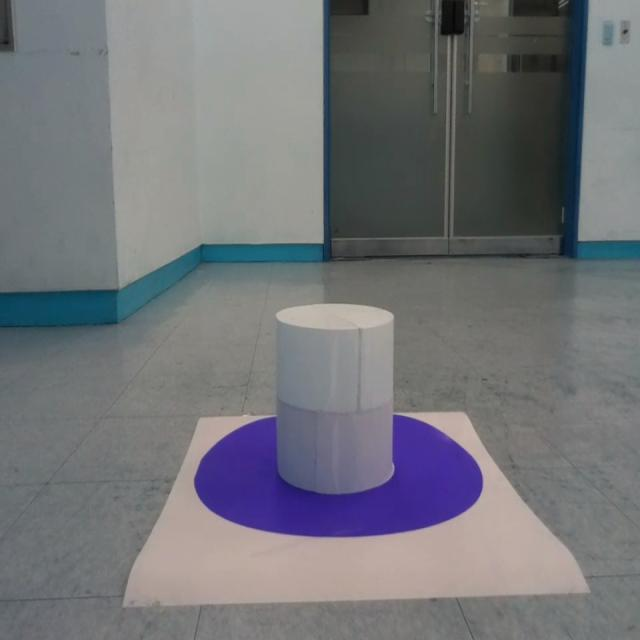cylinder: (273, 303, 396, 496)
